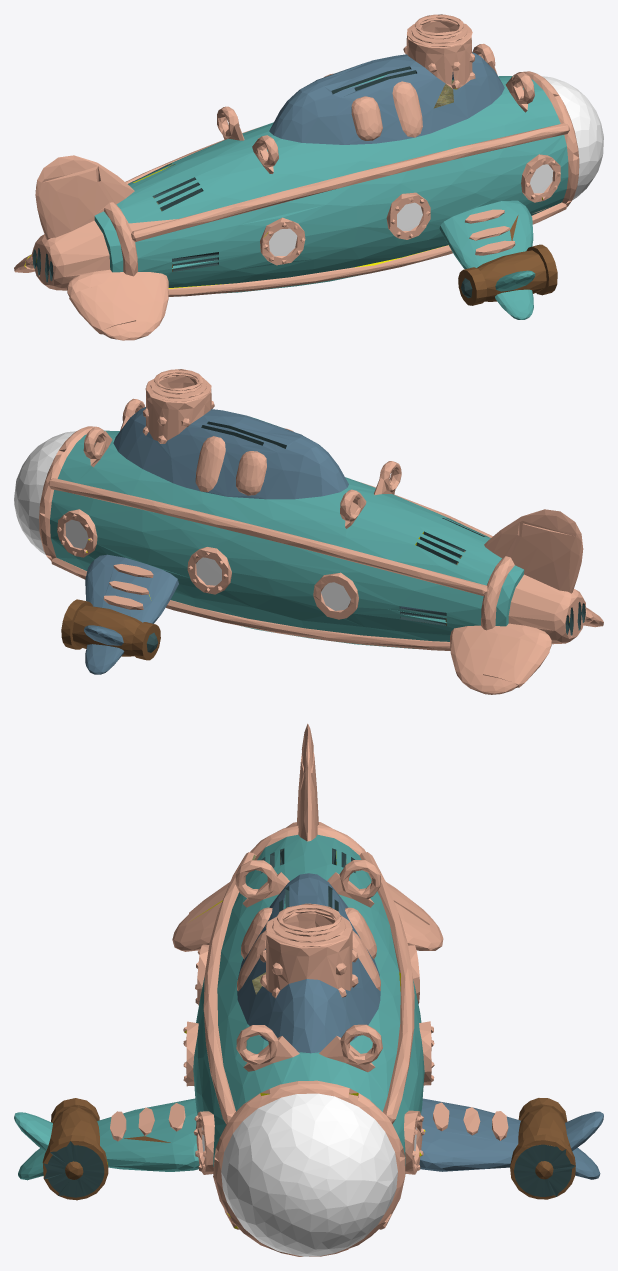
The model's file is ARIsubProp.glb.
3 views of the same model, one above another, from view 1: azimuth 30°, elevation 25°; view 2: azimuth 150°, elevation 25°; view 3: azimuth 270°, elevation 25° (orthographic). The views are drawn at different scales.
Parts seen in each view (by area): view 1: submarine.001; view 2: submarine.001; view 3: submarine.001.
Boxes of the visible parts, bbox=[...] form: submarine.001: bbox=[14, 14, 603, 340]; submarine.001: bbox=[14, 369, 603, 694]; submarine.001: bbox=[14, 723, 603, 1256].
Bounding box in the file's own units: 151 × 57.29 × 104.
Materials: 9 (2 with a texture image).
